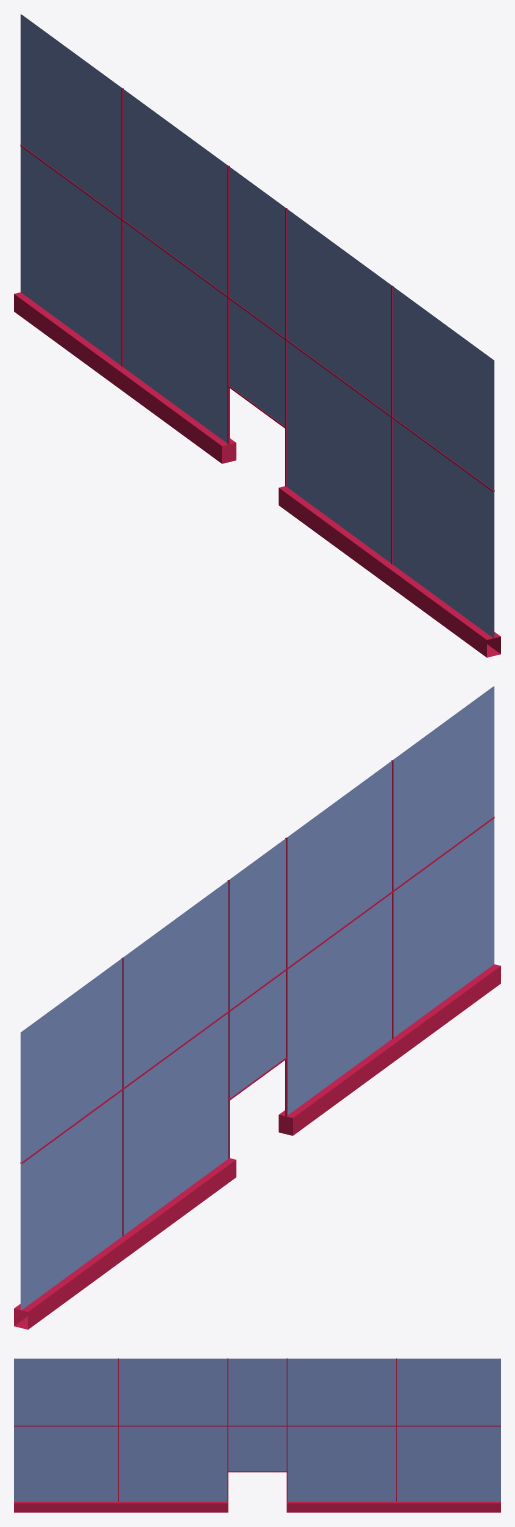
Rendered from geo_shopFront2.fbx.
The picture shows the model from 3 angles, top to bottom: view 1: azimuth 30°, elevation 25°; view 2: azimuth 150°, elevation 25°; view 3: azimuth 270°, elevation 25°; orthographic projection. The views are drawn at different scales.
Parts seen in each view (by area): view 1: geo_shopFront2; view 2: geo_shopFront2; view 3: geo_shopFront2.
Part boxes in pixels (x1=…): geo_shopFront2: x1=14, y1=14, x2=500, y2=657; geo_shopFront2: x1=14, y1=686, x2=500, y2=1329; geo_shopFront2: x1=14, y1=1358, x2=500, y2=1512.
Size of the model in its own units: 50 by 1000 by 2900.
